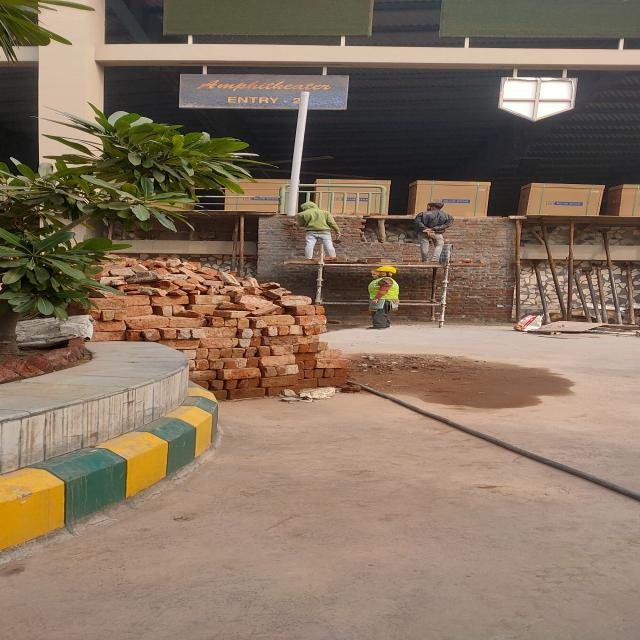safe: (362, 266, 401, 331)
unsafe: (296, 201, 345, 261), (412, 201, 457, 264)
